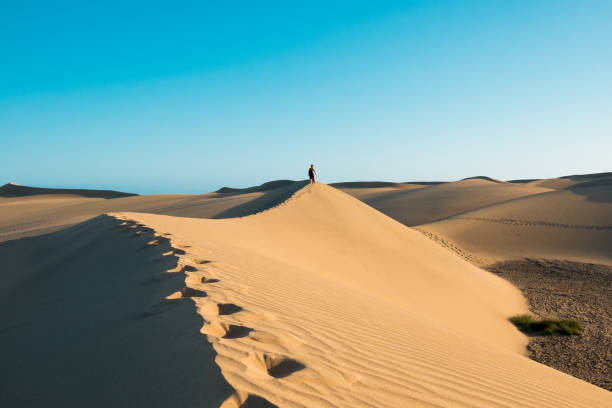human_foot_print: (162, 238, 305, 379), (243, 351, 305, 377), (220, 391, 277, 407), (201, 321, 252, 338), (199, 302, 242, 315), (217, 303, 242, 314)
